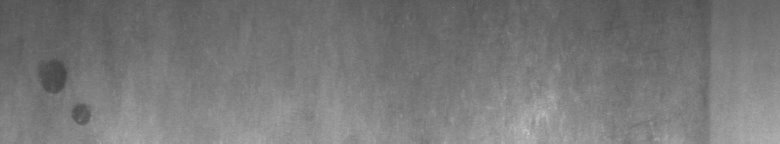fi: (33, 56, 93, 130)
